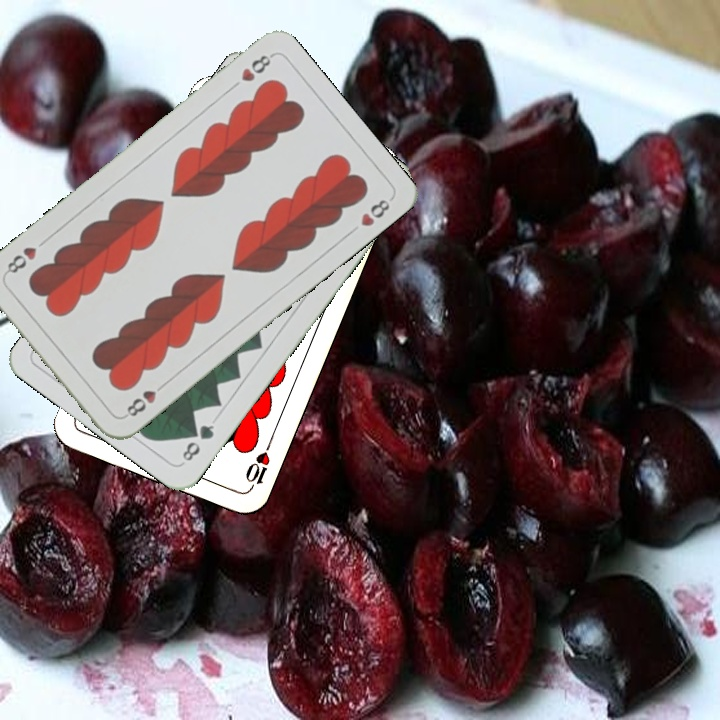G8: (178, 420, 217, 464)
H10: (241, 437, 274, 494)
H8: (120, 378, 169, 420), (237, 50, 275, 84)
